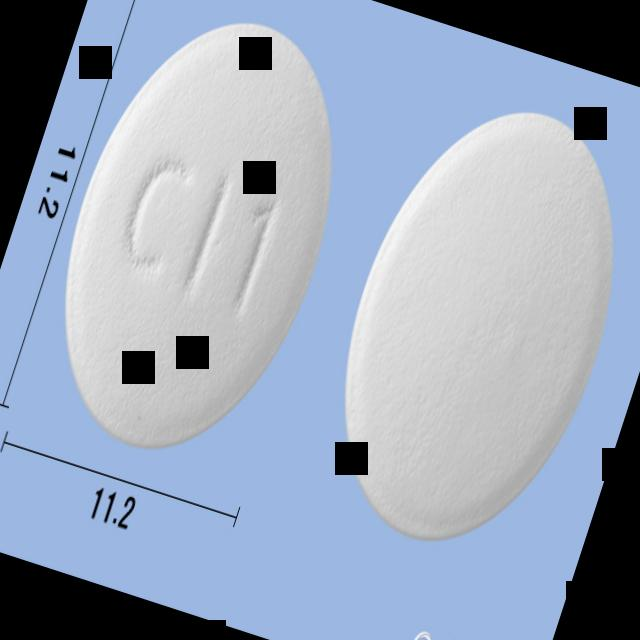Ciprocell: (12, 0, 387, 493)
